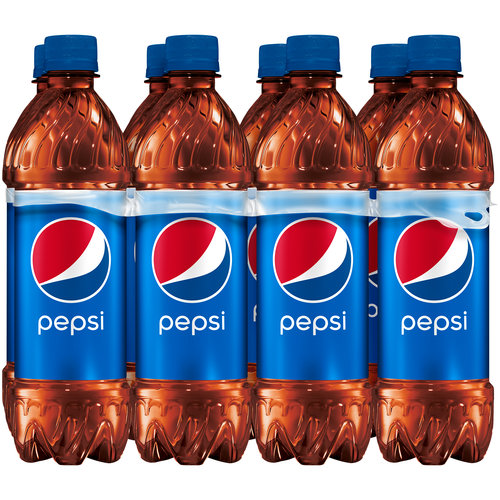pepsi: (25, 214, 108, 304), (149, 217, 232, 306), (392, 216, 474, 302), (30, 214, 108, 304), (30, 217, 108, 304), (272, 216, 349, 302), (275, 216, 349, 302)
